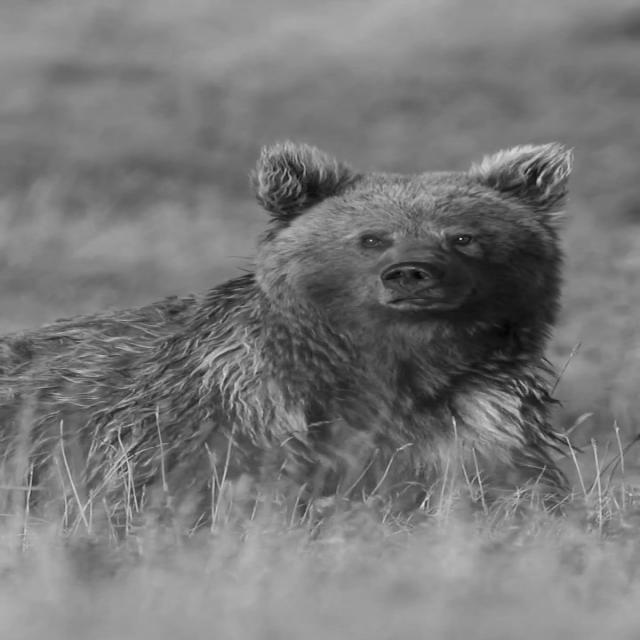Bear: (0, 139, 584, 546)
